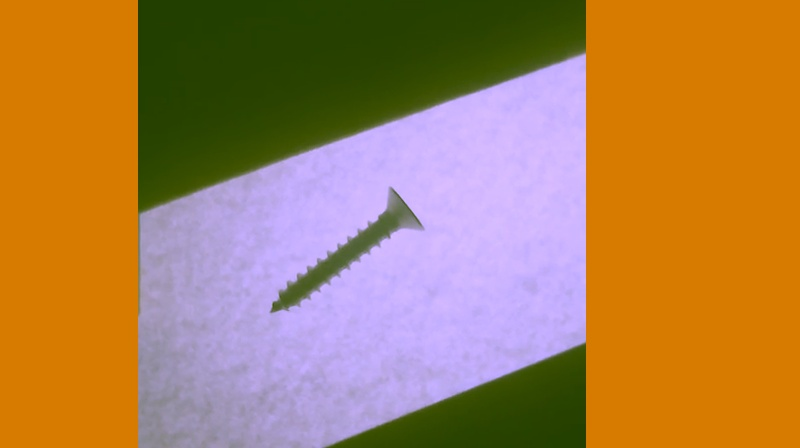S001: (263, 180, 427, 316)
